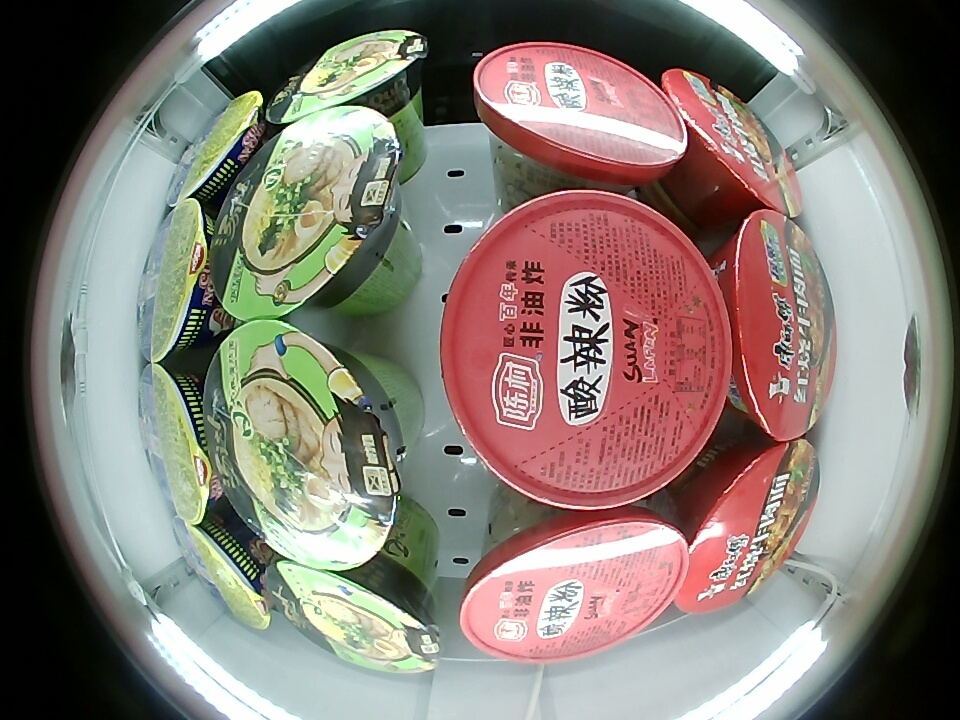heweidao: (135, 362, 223, 526), (135, 200, 215, 365), (164, 91, 264, 210), (169, 516, 270, 632)
hongshaoniurou: (717, 211, 834, 438), (673, 435, 819, 613), (659, 70, 802, 218)
suanlafen: (439, 187, 736, 512), (459, 500, 689, 663), (474, 41, 687, 197)
tangdaren: (204, 322, 405, 572), (210, 105, 405, 319), (266, 558, 441, 674), (264, 30, 427, 127)
